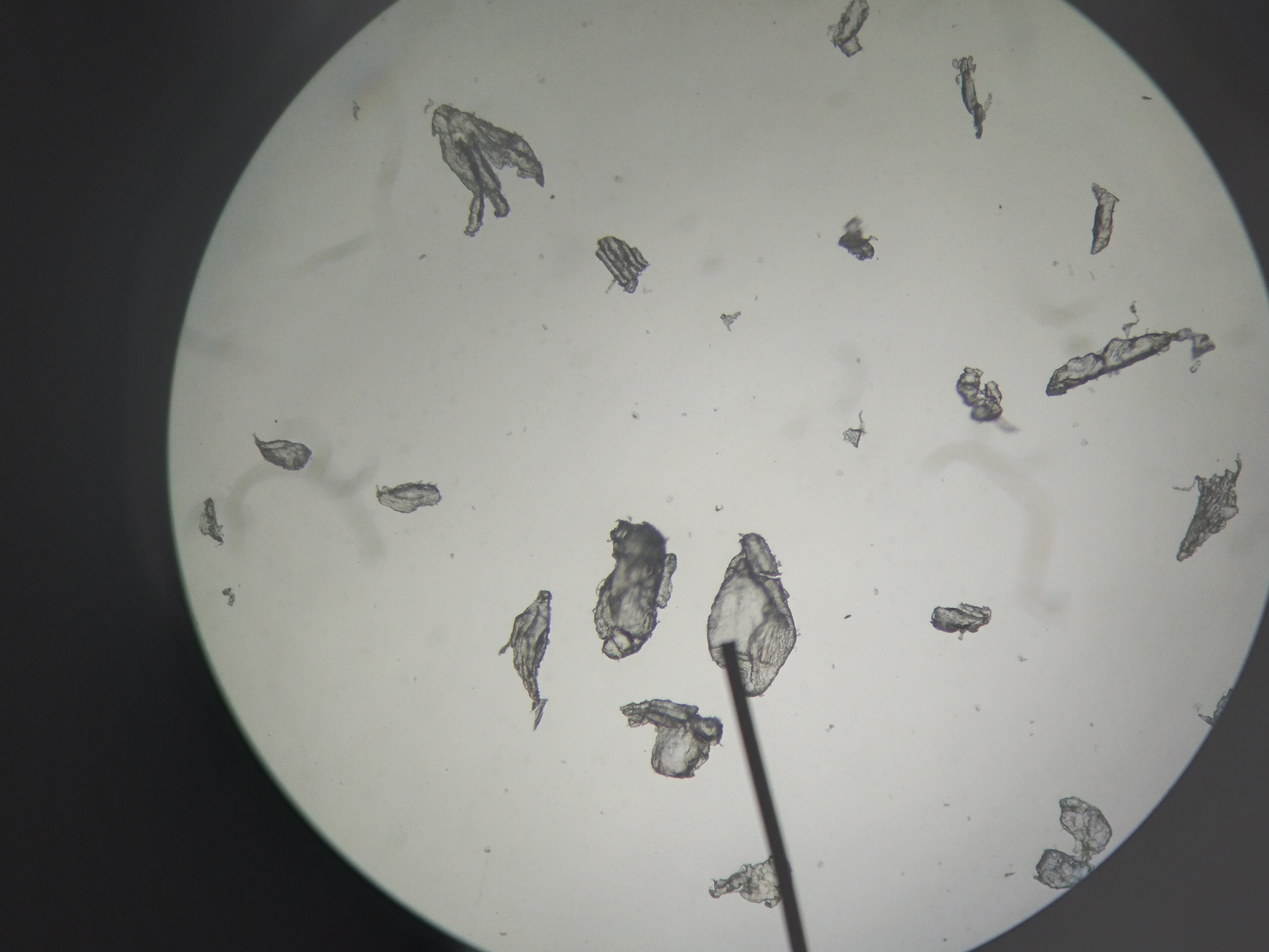microplastic: (425, 95, 557, 233), (702, 523, 795, 703), (1031, 325, 1222, 410), (493, 583, 569, 737), (595, 509, 663, 663), (1030, 791, 1121, 900), (613, 698, 723, 782), (1174, 454, 1250, 569), (708, 844, 795, 923), (588, 227, 664, 304), (239, 425, 326, 480), (820, 1, 889, 67), (957, 363, 1016, 435), (371, 475, 462, 521), (951, 55, 996, 144), (1084, 175, 1125, 264), (835, 211, 887, 274), (933, 603, 1000, 650), (198, 494, 238, 564), (843, 405, 868, 456), (221, 583, 246, 618), (721, 306, 742, 334)
